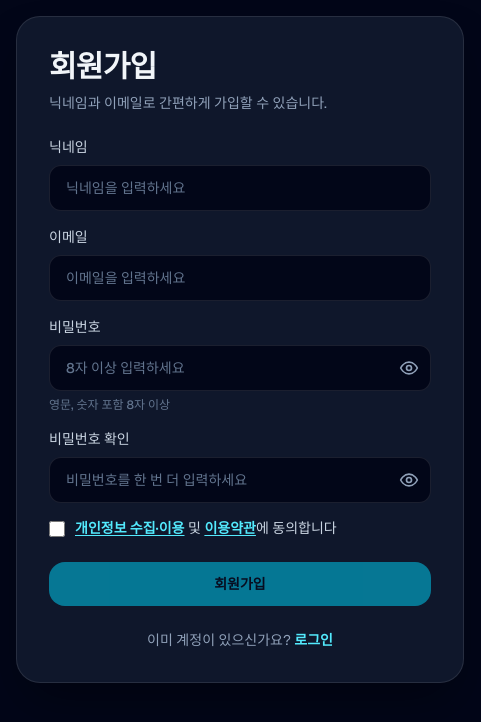
Test case: 회원가입 폼 UX › (2) 확인 칸에 일치하는 값을 입력하고 약관에 동의하면 '비밀번호가 일치해요'가 뜨고 제출이 활성화된다
Type "abcd1234" into the password field with placeholder "8자 이상 입력하세요" at (240, 368), box [49,345,431,391]
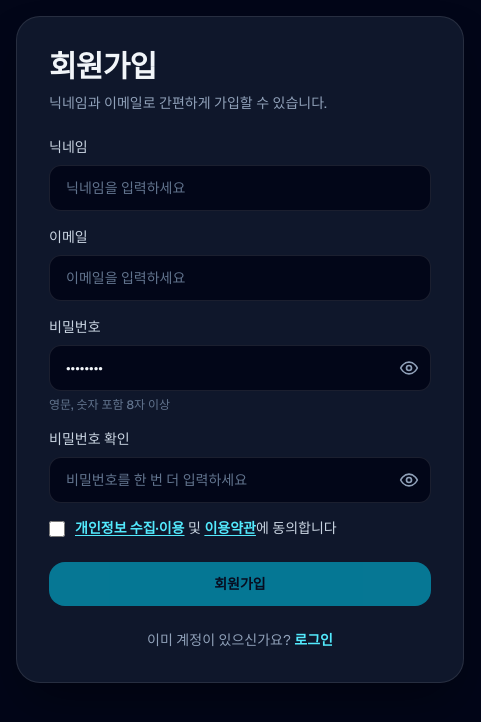
Type "abcd1234" into the password field with placeholder "비밀번호를 한 번 더 입력하세요" at (240, 480), box [49,457,431,503]
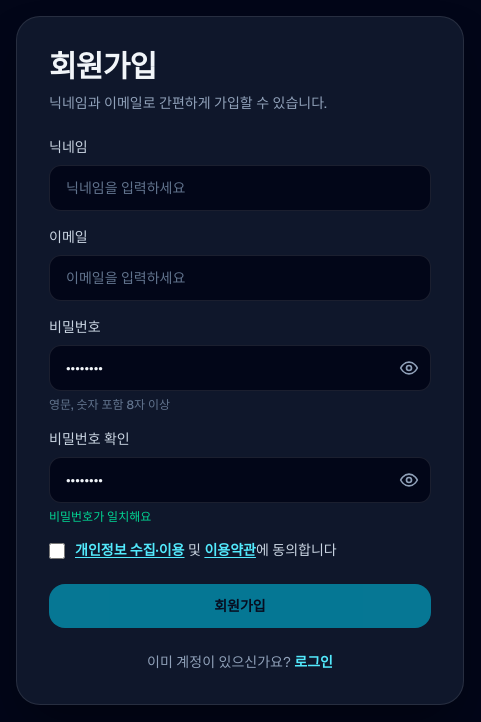
Click the checkbox at (57, 551), box [49,543,65,559]
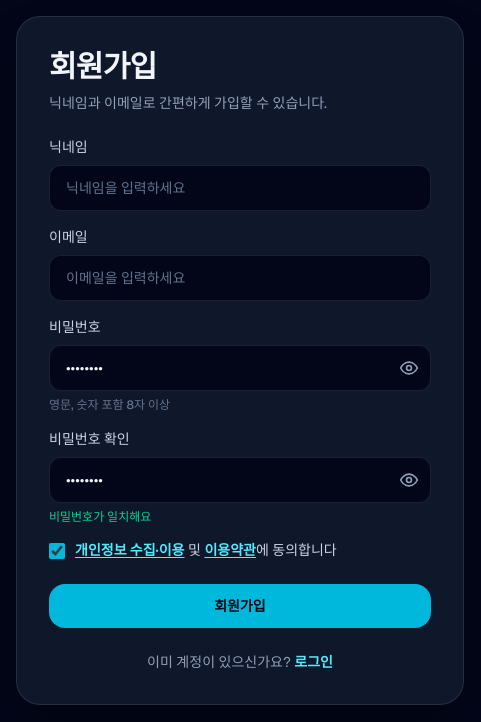
Result: the text "비밀번호가 일치해요" is shown at [49,509,151,525]
Result: the button "회원가입" is enabled at [49,584,431,628]
